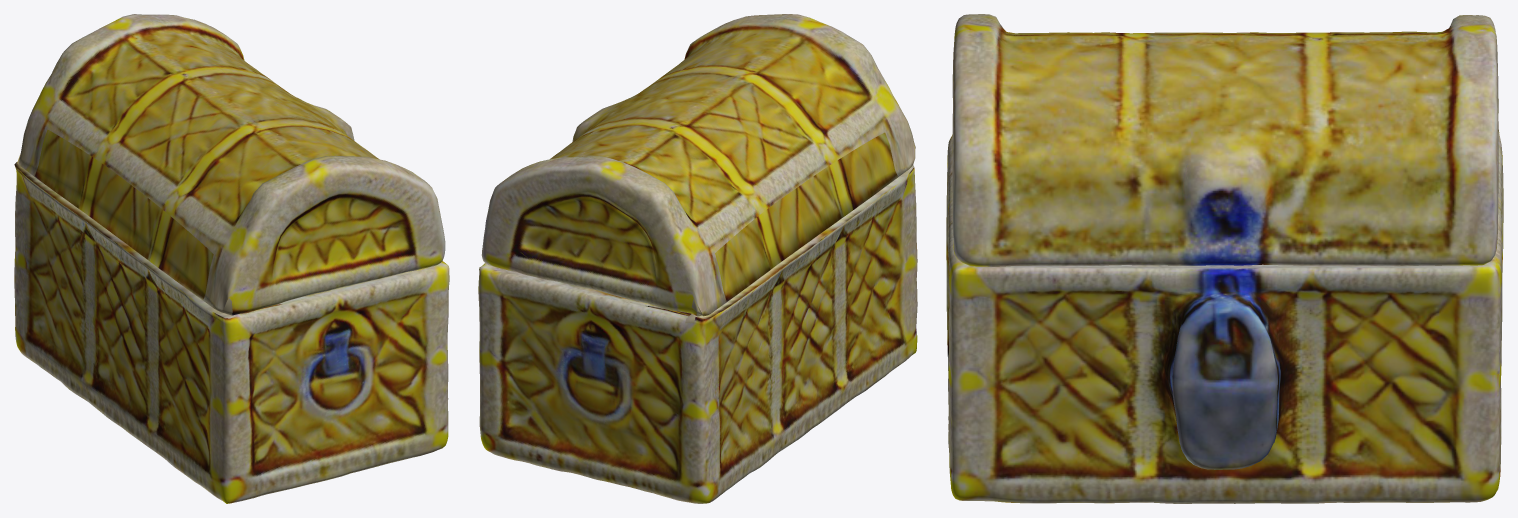
File: chestclosed.fbx
3 renders of one model, left to right at view 1: azimuth 30°, elevation 25°; view 2: azimuth 150°, elevation 25°; view 3: azimuth 270°, elevation 25°, orthographic. The views are drawn at different scales.
Parts seen in each view (by area): view 1: mesh; view 2: mesh; view 3: mesh.
Boxes of the visible parts, x1,y1,x2,y2 form: mesh: (14, 14, 449, 503); mesh: (478, 14, 917, 503); mesh: (946, 14, 1503, 503).
Bounding box in the file's own units: 71.66 × 75.91 × 95.37.
